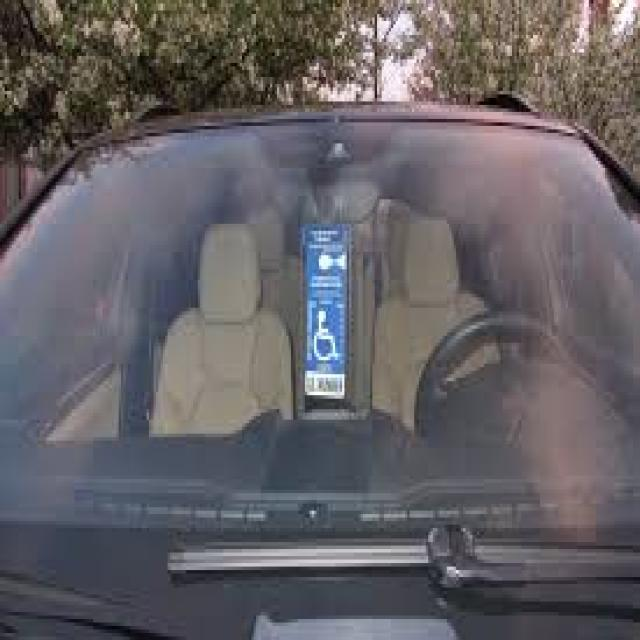symbol_of_access: (314, 310, 338, 362)
